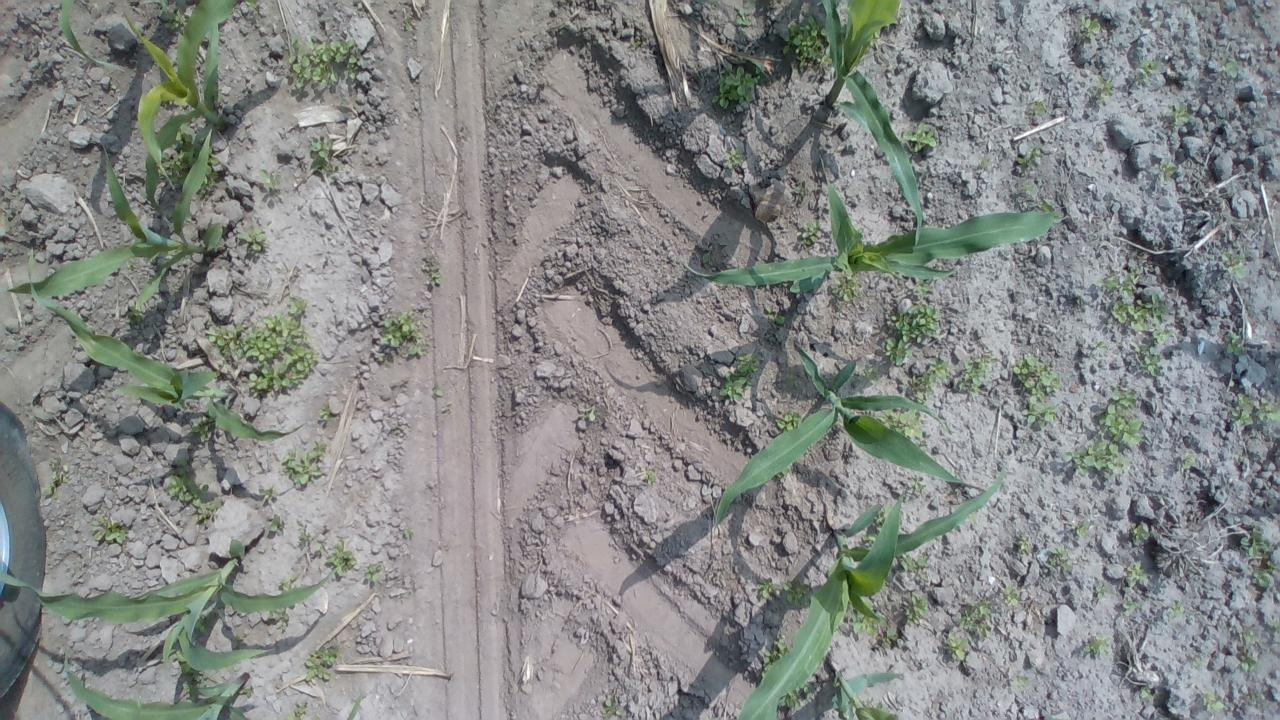Maize: (738, 467, 1006, 720), (25, 248, 306, 442), (712, 342, 982, 529), (686, 156, 1058, 290), (0, 537, 336, 672), (10, 126, 225, 313), (814, 0, 923, 248), (125, 0, 242, 221), (62, 645, 362, 720), (59, 0, 200, 70), (825, 653, 906, 720)
Weeds: (207, 296, 320, 398), (1095, 264, 1174, 342), (1012, 355, 1062, 429), (287, 37, 362, 86), (782, 14, 834, 70), (165, 473, 222, 524), (1060, 437, 1130, 478), (1098, 387, 1144, 445), (709, 61, 762, 108), (380, 310, 428, 358), (889, 303, 942, 343), (908, 358, 951, 404), (958, 351, 999, 398), (281, 443, 325, 484), (876, 406, 922, 439), (158, 150, 198, 186), (957, 599, 992, 639), (760, 635, 789, 678), (88, 514, 128, 545), (306, 643, 338, 681), (309, 136, 337, 178), (851, 602, 884, 637), (719, 372, 756, 403), (1129, 343, 1163, 376), (777, 681, 816, 709), (326, 540, 356, 576), (1240, 526, 1273, 558), (904, 122, 938, 153), (830, 273, 864, 302), (40, 464, 69, 495), (882, 338, 914, 366), (200, 146, 220, 190), (782, 580, 812, 608), (1229, 393, 1254, 426), (900, 554, 930, 581), (904, 592, 929, 624), (182, 674, 209, 703), (1044, 546, 1074, 572), (423, 250, 444, 286), (237, 226, 266, 251), (172, 643, 195, 674), (947, 630, 970, 660), (1166, 102, 1192, 128), (798, 219, 822, 247), (1252, 558, 1276, 586), (1222, 251, 1246, 279), (1255, 396, 1280, 422), (774, 410, 801, 434), (736, 351, 762, 375), (1015, 148, 1043, 170), (1094, 76, 1114, 106), (190, 416, 212, 442), (734, 0, 756, 26), (1125, 560, 1147, 586), (1083, 636, 1111, 656), (162, 8, 188, 29), (1200, 690, 1225, 711), (764, 304, 787, 326), (1156, 160, 1178, 183), (173, 122, 194, 146), (260, 168, 282, 190), (1038, 200, 1060, 222), (856, 363, 880, 383), (1080, 15, 1100, 39), (874, 505, 892, 531), (266, 608, 288, 629), (282, 702, 306, 720), (1219, 52, 1237, 76), (193, 614, 214, 634), (1139, 60, 1160, 80), (1224, 334, 1243, 356), (1002, 583, 1019, 607), (724, 148, 742, 170), (756, 577, 775, 597), (363, 563, 382, 582), (1240, 652, 1259, 671), (1130, 524, 1150, 542), (124, 305, 142, 325), (279, 573, 298, 591), (1122, 595, 1138, 616), (602, 699, 618, 720), (1028, 99, 1046, 116), (1072, 520, 1092, 535), (268, 513, 283, 532), (910, 477, 926, 494), (916, 278, 931, 296), (258, 487, 279, 499), (794, 181, 808, 199), (1017, 536, 1031, 554), (580, 406, 596, 421), (1013, 673, 1027, 690), (1095, 580, 1108, 598), (297, 528, 311, 544), (1169, 602, 1183, 618), (1242, 629, 1258, 642), (702, 248, 713, 266), (884, 628, 898, 642), (1246, 693, 1262, 705), (1182, 454, 1194, 470), (318, 404, 329, 421), (1140, 686, 1153, 700), (126, 256, 139, 270), (178, 456, 190, 471), (968, 509, 980, 524), (232, 635, 244, 649), (403, 16, 414, 30), (788, 373, 802, 384), (1094, 340, 1108, 351), (1269, 618, 1280, 632), (775, 468, 790, 478), (238, 688, 252, 698), (646, 470, 656, 484), (862, 533, 877, 542), (1023, 180, 1033, 193), (980, 156, 990, 168), (245, 0, 259, 7), (1193, 656, 1201, 668), (315, 544, 324, 554), (404, 528, 412, 538), (434, 389, 444, 397), (630, 40, 640, 47), (376, 355, 384, 361)
